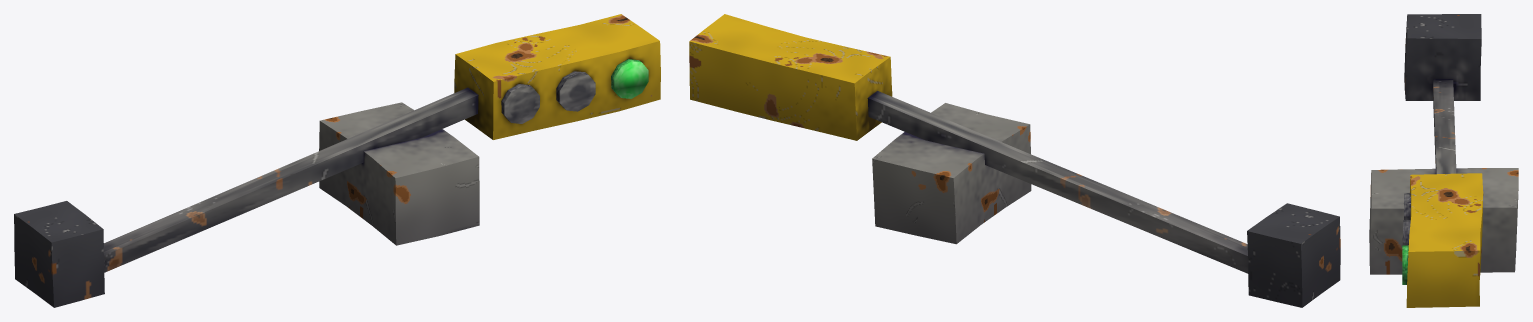
File: TrafficLight.glb
The picture shows the model from 3 angles, left to right: view 1: azimuth 30°, elevation 25°; view 2: azimuth 150°, elevation 25°; view 3: azimuth 270°, elevation 25°; orthographic projection. The views are drawn at different scales.
Parts seen in each view (by area): view 1: Pole, Housing, Block, Lamps, Lit; view 2: Pole, Housing, Block; view 3: Housing, Pole, Block, Lamps, Lit.
Part boxes in pixels (x1,y1,x2,y2): Pole: [14, 87, 478, 307]; Housing: [454, 14, 660, 139]; Block: [319, 102, 479, 245]; Lamps: [501, 71, 595, 123]; Lit: [611, 59, 648, 98]; Pole: [867, 91, 1340, 307]; Housing: [689, 14, 892, 140]; Block: [872, 103, 1031, 244]; Housing: [1406, 173, 1483, 307]; Pole: [1404, 14, 1481, 174]; Block: [1369, 168, 1518, 274]; Lamps: [1402, 193, 1410, 258]; Lit: [1402, 245, 1408, 284].
Bounding box in the file's own units: 5.77 × 1.11 × 1.26.
Materials: 5 (5 with a texture image).
